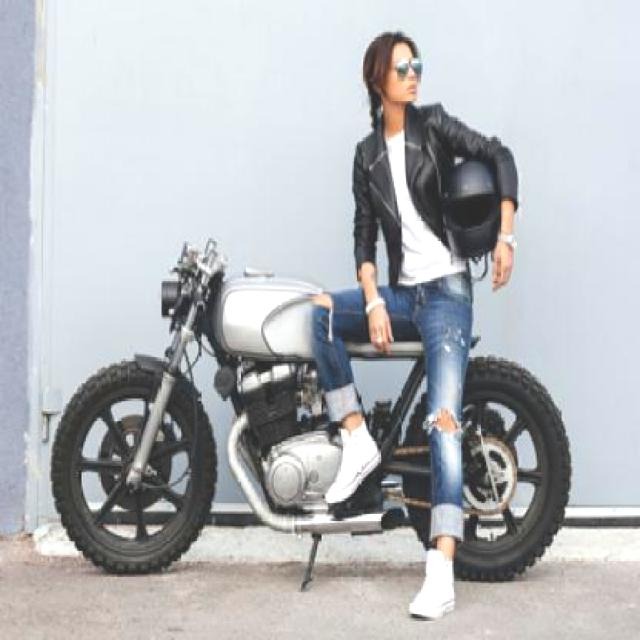Without Helmet: (360, 27, 428, 108)
